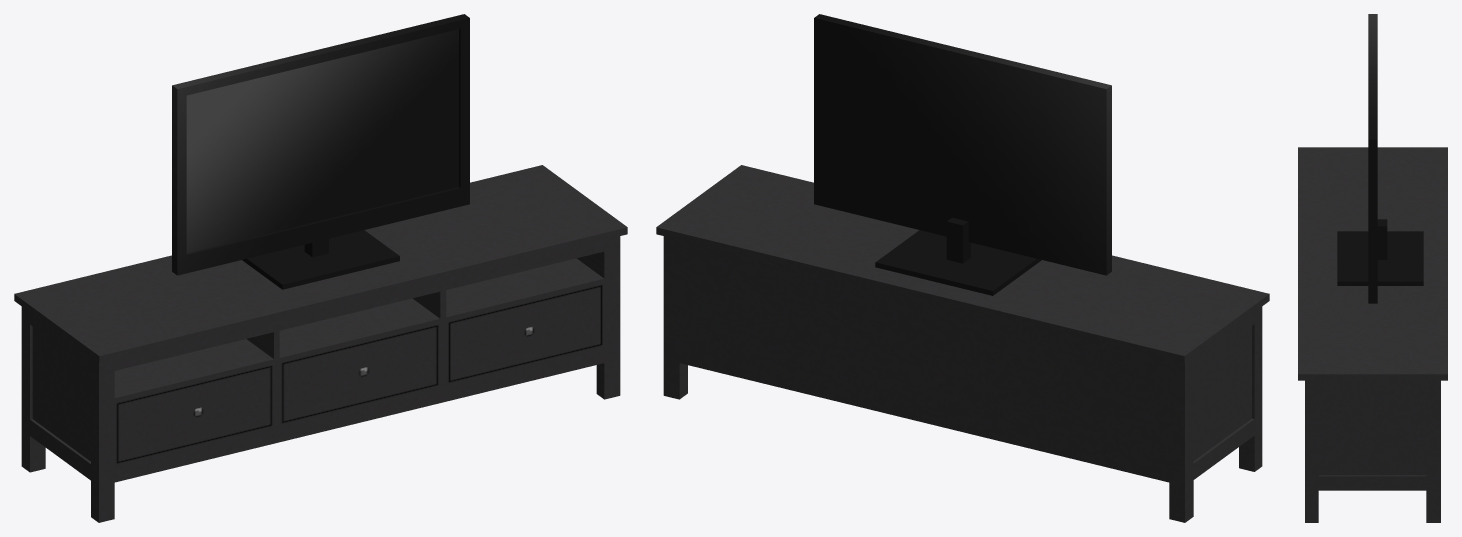
File: MEL_TV_unit.obj
The picture shows the model from 3 angles, left to right: view 1: azimuth 30°, elevation 25°; view 2: azimuth 150°, elevation 25°; view 3: azimuth 270°, elevation 25°; orthographic projection. The views are drawn at different scales.
Visible parts, largest first — view 1: pCube29; view 2: pCube29; view 3: pCube29.
Boxes of the visible parts, x1,y1,x2,y2 form: pCube29: (14, 14, 627, 522); pCube29: (656, 14, 1269, 522); pCube29: (1298, 14, 1447, 522).
Size of the model in its own units: 18.54 by 12.72 by 5.18.
Materials: 1 (1 with a texture image).
